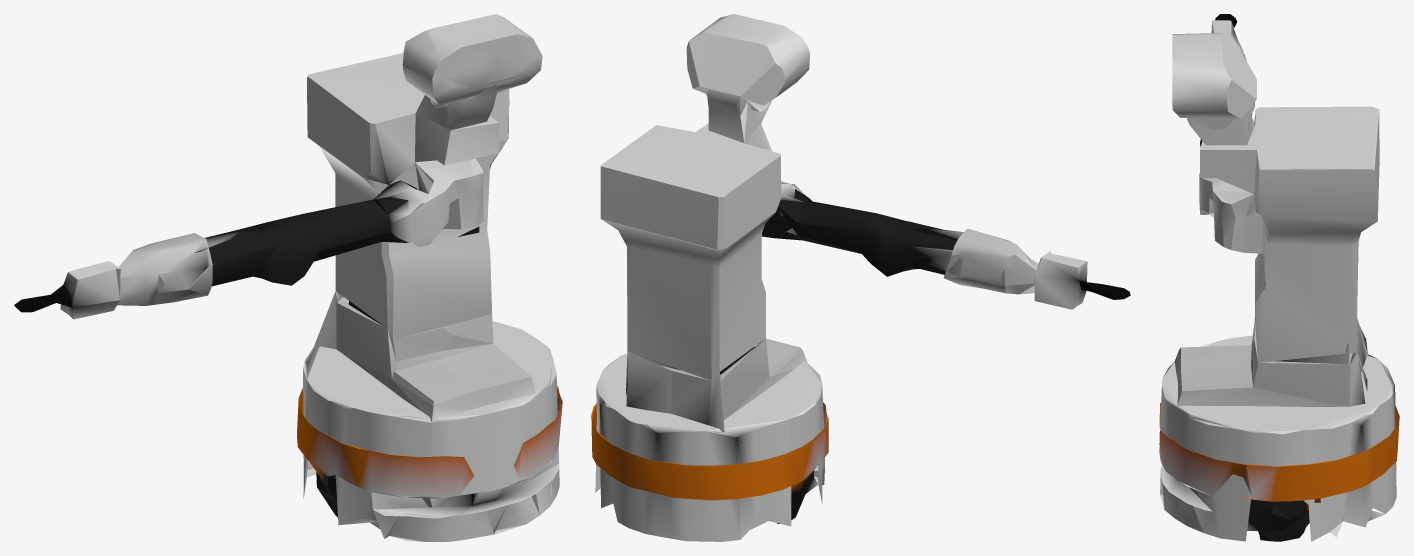
The model's file is pal-tiago.l2.glb.
The picture shows the model from 3 angles, left to right: view 1: azimuth 30°, elevation 25°; view 2: azimuth 150°, elevation 25°; view 3: azimuth 270°, elevation 25°; orthographic projection. The views are drawn at different scales.
Visible parts, largest first — view 1: pal-tiago__l2; view 2: pal-tiago__l2; view 3: pal-tiago__l2.
Boxes of the visible parts, left/top/right/bottom form: pal-tiago__l2: left=14, top=14, right=562, bottom=541; pal-tiago__l2: left=591, top=14, right=1130, bottom=541; pal-tiago__l2: left=1159, top=14, right=1399, bottom=541.
Bounding box in the file's own units: 1.3 × 1.11 × 0.5304.
